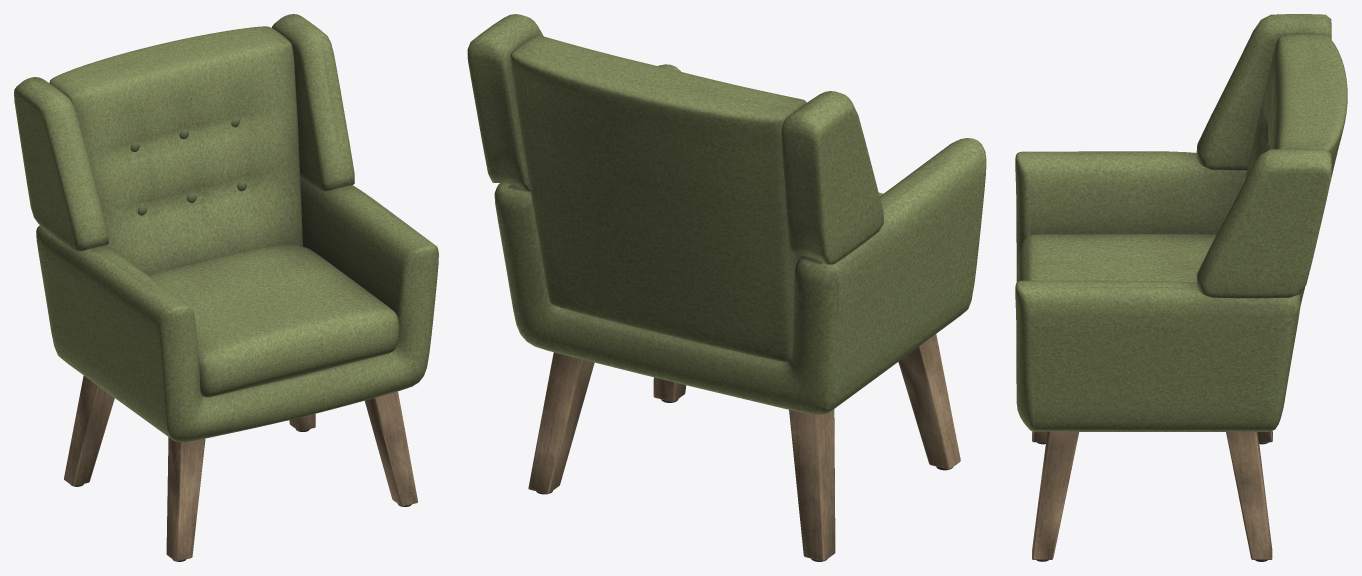
The model's file is modern_upholstered_armchair_-_4096px2.glb.
3 views of the same model, side by side, from view 1: azimuth 30°, elevation 25°; view 2: azimuth 150°, elevation 25°; view 3: azimuth 270°, elevation 25° (orthographic). The views are drawn at different scales.
Visible parts, largest first — view 1: Chair; view 2: Chair; view 3: Chair.
Boxes of the visible parts, x1,y1,x2,y2 form: Chair: [14, 14, 438, 561]; Chair: [467, 14, 986, 561]; Chair: [1015, 14, 1347, 561].
Bounding box in the file's own units: 0.6925 × 0.8924 × 0.6454.
1 material, 1 textured.
